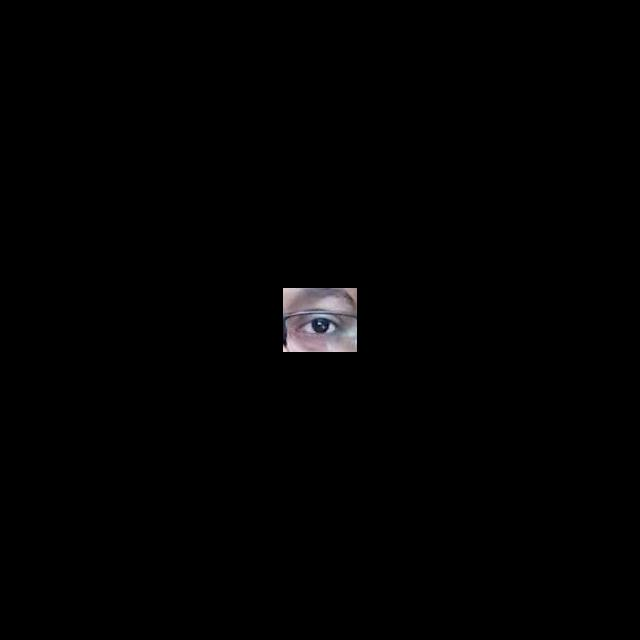eye: (304, 320, 335, 334)
iris: (312, 319, 330, 333)
